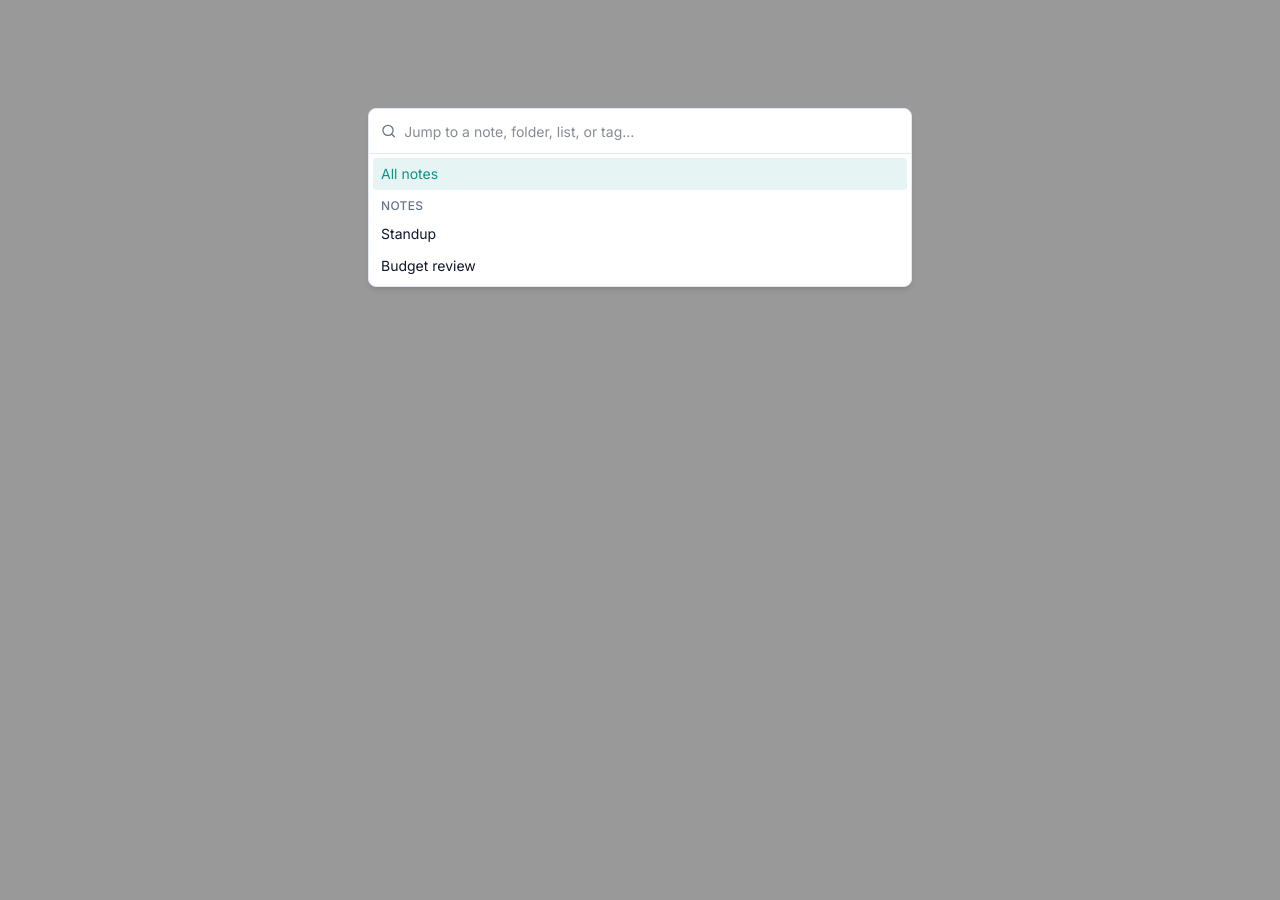
CommandPalette › folder affordance › shows "→ folder" badge next to folder results
In the field named "Search": (652, 131) x1=404 y1=109 x2=899 y2=153, type "projects"
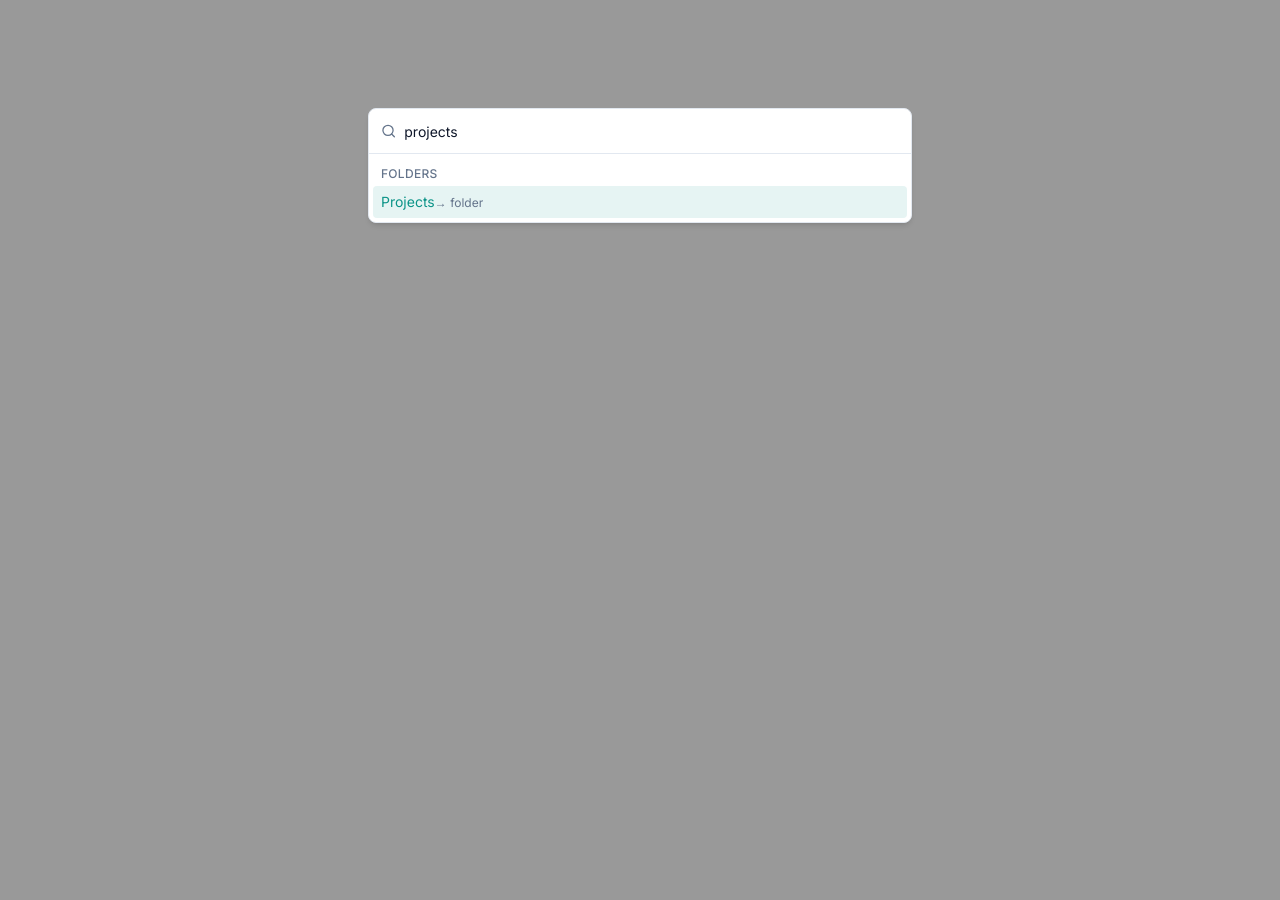
Now the text "Projects" is shown, box x1=381 y1=193 x2=435 y2=210
Now the text "→ folder" is shown, box x1=435 y1=195 x2=483 y2=210
